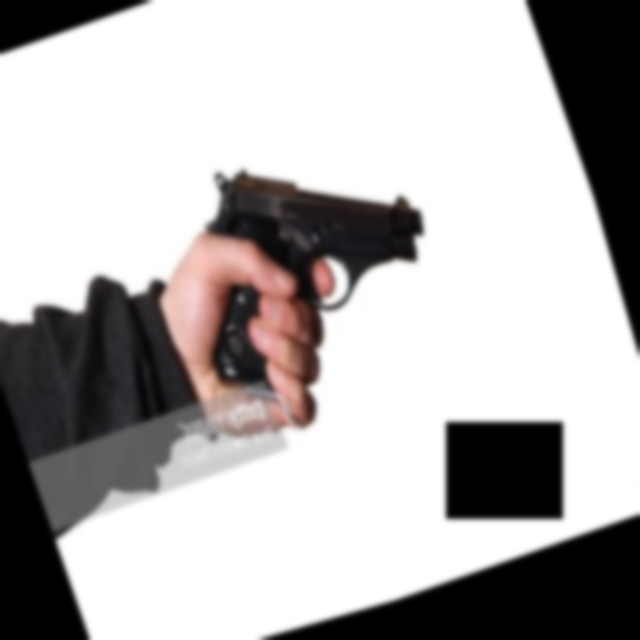gun: (146, 102, 469, 401)
